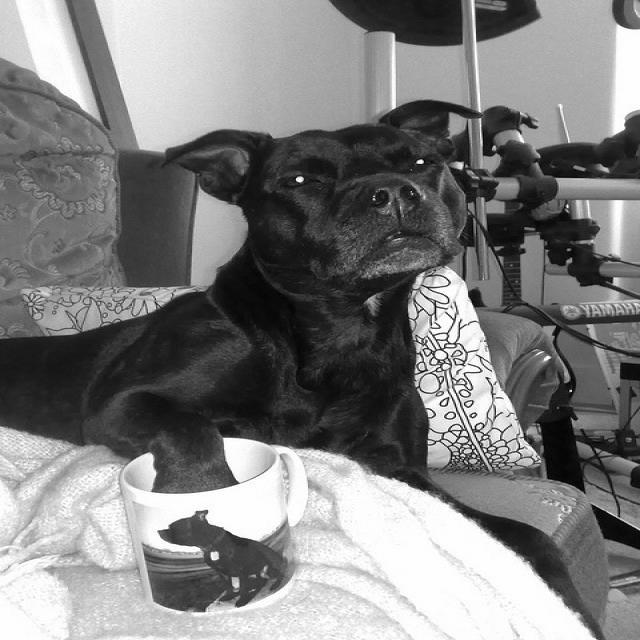bicycle: (381, 90, 639, 590)
dog: (0, 101, 489, 512), (156, 509, 289, 602)
